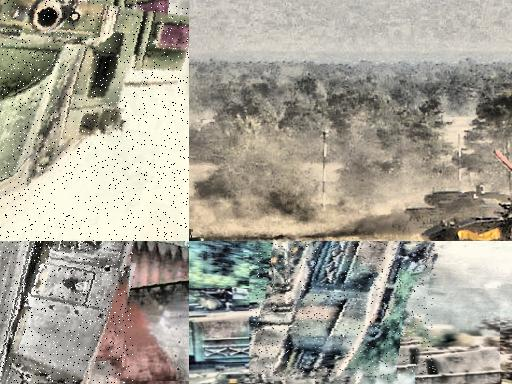tanks: (1, 1, 190, 203), (251, 242, 437, 381), (1, 242, 134, 384), (423, 195, 512, 242), (190, 230, 193, 242)
